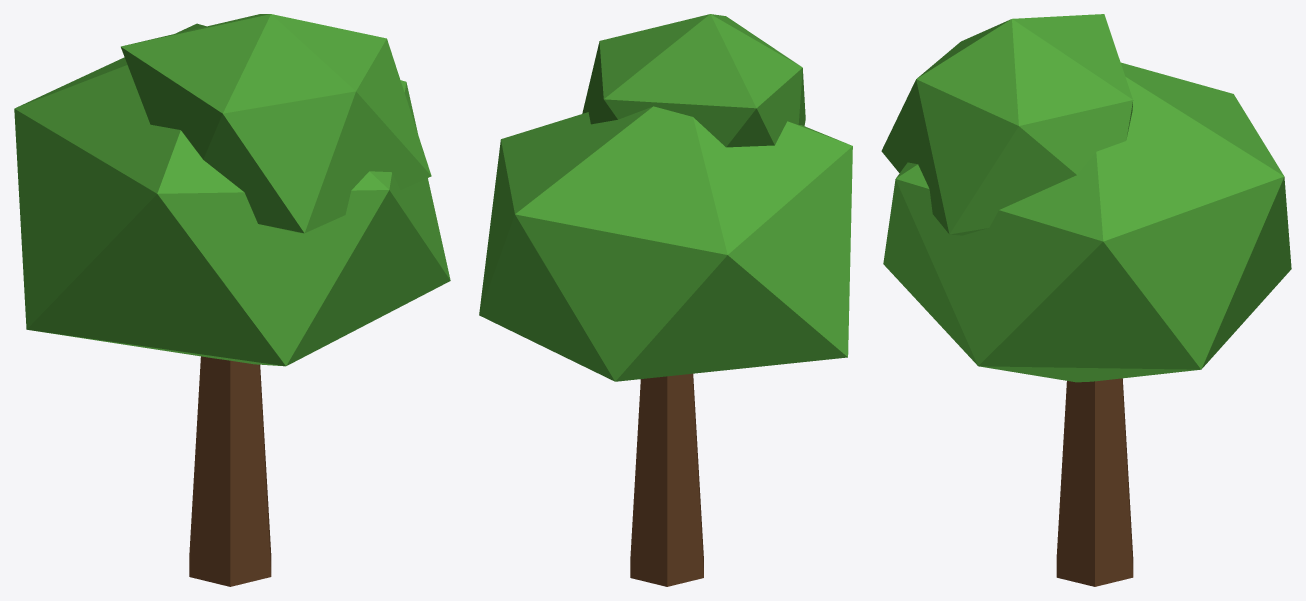
Rendered from tree_round.glb.
3 renders of one model, left to right at view 1: azimuth 30°, elevation 25°; view 2: azimuth 150°, elevation 25°; view 3: azimuth 270°, elevation 25°, orthographic. The views are drawn at different scales.
Parts seen in each view (by area): view 1: tree_round; view 2: tree_round; view 3: tree_round.
Part boxes in pixels (box(x1,y1,x2,y2)): tree_round: box(14, 14, 450, 586); tree_round: box(479, 14, 852, 586); tree_round: box(881, 14, 1291, 586).
Bounding box in the file's own units: 2.43 × 3.55 × 2.41.
